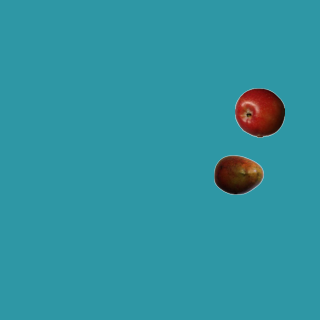Apple Braeburn: (234, 87, 284, 137)
Mango Red: (213, 149, 263, 199)
